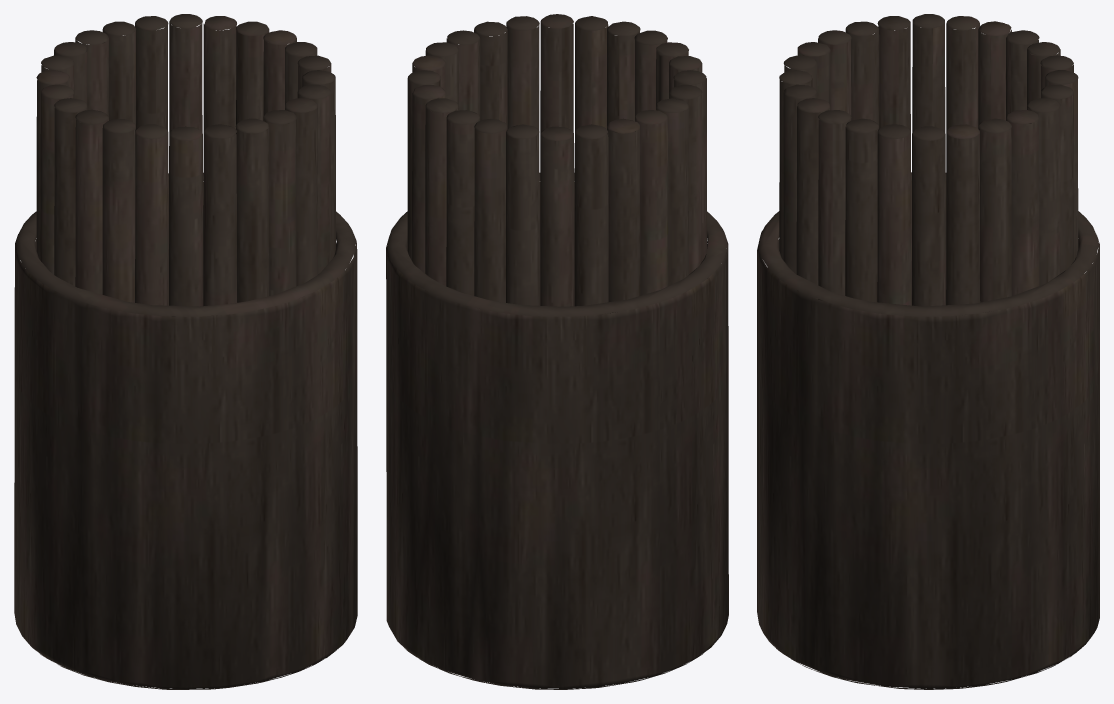
The model's file is cylindra_dama_cerny.glb.
3 renders of one model, left to right at view 1: azimuth 30°, elevation 25°; view 2: azimuth 150°, elevation 25°; view 3: azimuth 270°, elevation 25°, orthographic.
Parts seen in each view (by area): view 1: Cylindra_Dáma_černý; view 2: Cylindra_Dáma_černý; view 3: Cylindra_Dáma_černý.
Boxes of the visible parts, x1,y1,x2,y2 form: Cylindra_Dáma_černý: [14, 14, 357, 689]; Cylindra_Dáma_černý: [386, 14, 728, 689]; Cylindra_Dáma_černý: [757, 14, 1099, 689].
Bounding box in the file's own units: 0.032 × 0.0559 × 0.0319.
2 materials, 2 textured.
